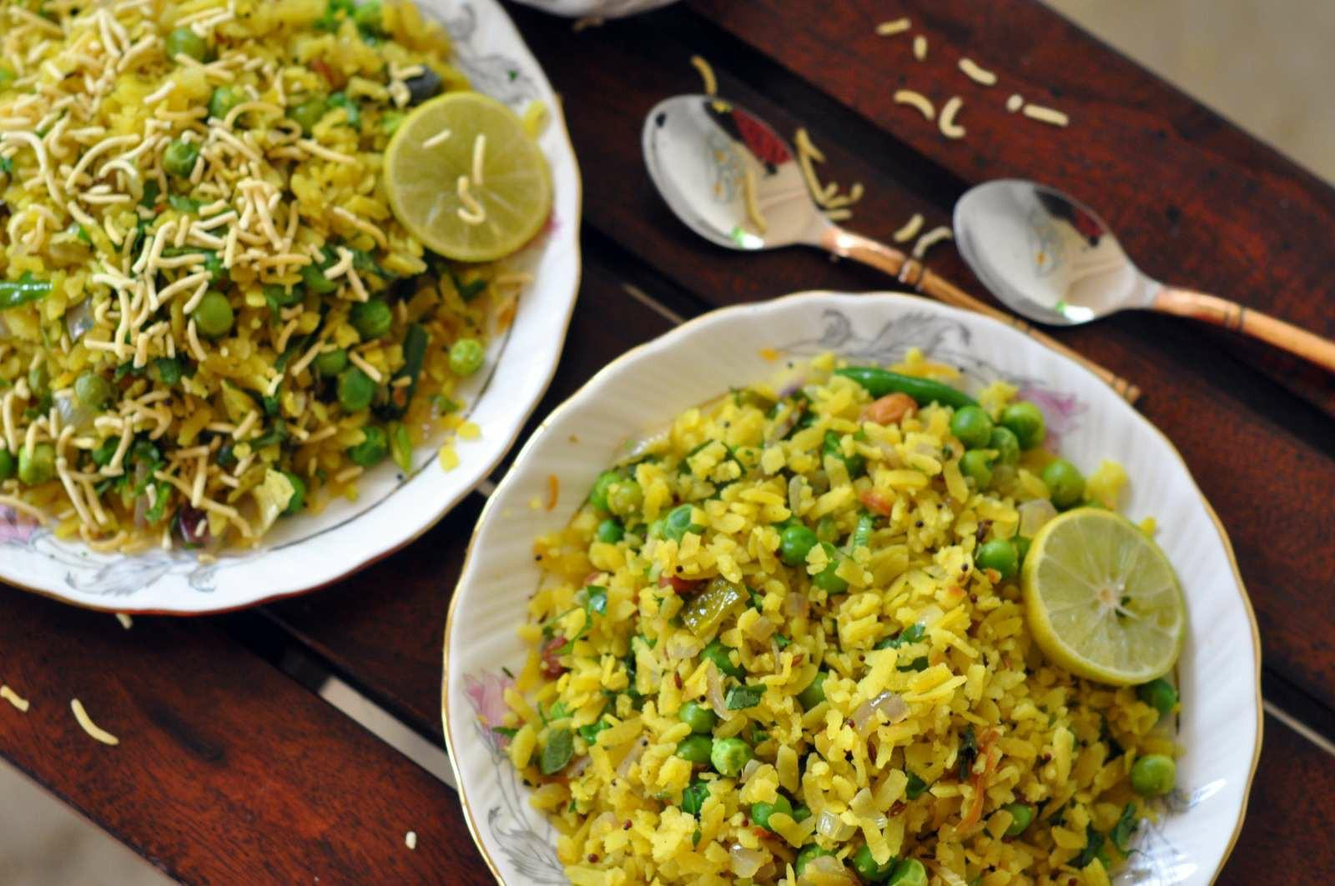Poha: (500, 349, 1187, 886), (0, 0, 556, 555)
